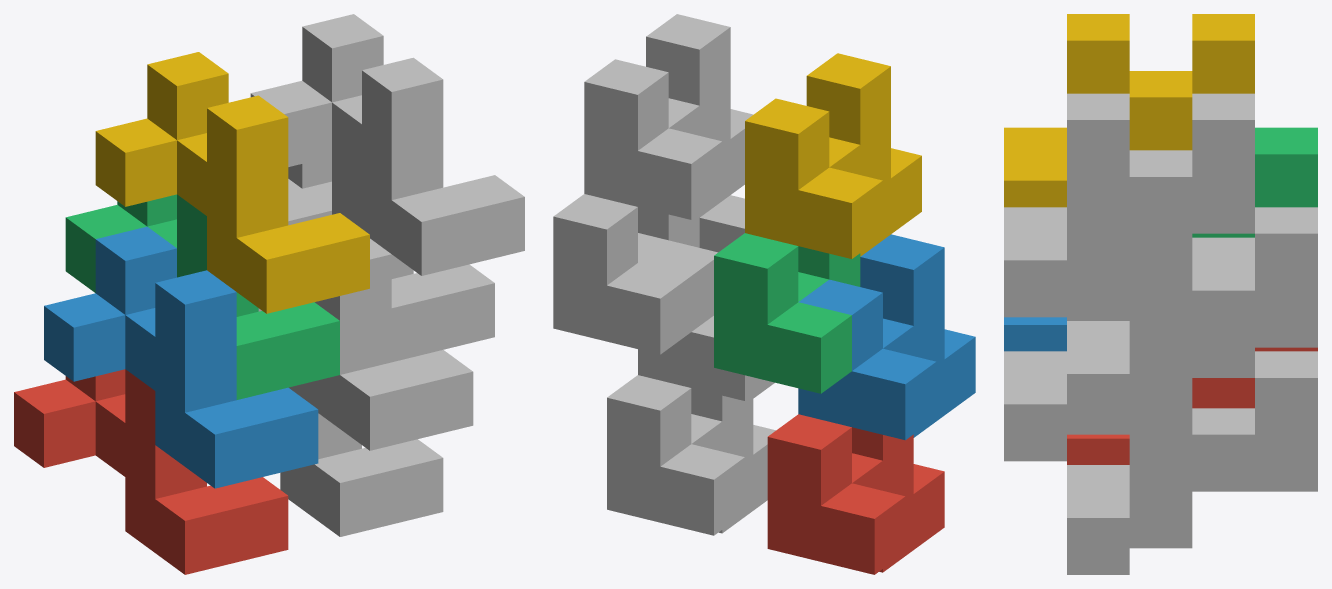
Rendered from tiling.obj.
The picture shows the model from 3 angles, left to right: view 1: azimuth 30°, elevation 25°; view 2: azimuth 150°, elevation 25°; view 3: azimuth 270°, elevation 25°; orthographic projection. The views are drawn at different scales.
Parts seen in each view (by area): view 1: copy_1_domain_4, copy_1_domain_2, copy_1_domain_8, copy_1_domain_1, copy_1_domain_6, copy_1_domain_3, copy_1_domain_5, copy_1_domain_7; view 2: copy_1_domain_4, copy_1_domain_8, copy_1_domain_2, copy_1_domain_1, copy_1_domain_5, copy_1_domain_7, copy_1_domain_3, copy_1_domain_6; view 3: copy_1_domain_8, copy_1_domain_7, copy_1_domain_5, copy_1_domain_4, copy_1_domain_6, copy_1_domain_3, copy_1_domain_1, copy_1_domain_2.
Part boxes in pixels (bbox=[...]): copy_1_domain_4: bbox=[95, 52, 369, 313]; copy_1_domain_2: bbox=[44, 226, 318, 488]; copy_1_domain_8: bbox=[250, 14, 524, 275]; copy_1_domain_1: bbox=[14, 369, 288, 574]; copy_1_domain_6: bbox=[258, 189, 473, 450]; copy_1_domain_3: bbox=[65, 194, 339, 399]; copy_1_domain_5: bbox=[280, 382, 443, 536]; copy_1_domain_7: bbox=[288, 156, 494, 362]; copy_1_domain_4: bbox=[745, 53, 921, 258]; copy_1_domain_8: bbox=[584, 14, 753, 219]; copy_1_domain_2: bbox=[798, 234, 975, 440]; copy_1_domain_1: bbox=[767, 414, 944, 574]; copy_1_domain_5: bbox=[607, 375, 775, 535]; copy_1_domain_7: bbox=[553, 194, 699, 354]; copy_1_domain_3: bbox=[714, 233, 860, 393]; copy_1_domain_6: bbox=[638, 195, 774, 400]; copy_1_domain_8: bbox=[1004, 93, 1254, 317]; copy_1_domain_7: bbox=[1067, 207, 1317, 430]; copy_1_domain_5: bbox=[1067, 351, 1317, 574]; copy_1_domain_4: bbox=[1004, 14, 1254, 207]; copy_1_domain_6: bbox=[1004, 237, 1254, 461]; copy_1_domain_3: bbox=[1192, 127, 1317, 237]; copy_1_domain_1: bbox=[1067, 347, 1317, 464]; copy_1_domain_2: bbox=[1004, 317, 1066, 351].
Size of the model in its own units: 7 by 8 by 5.
